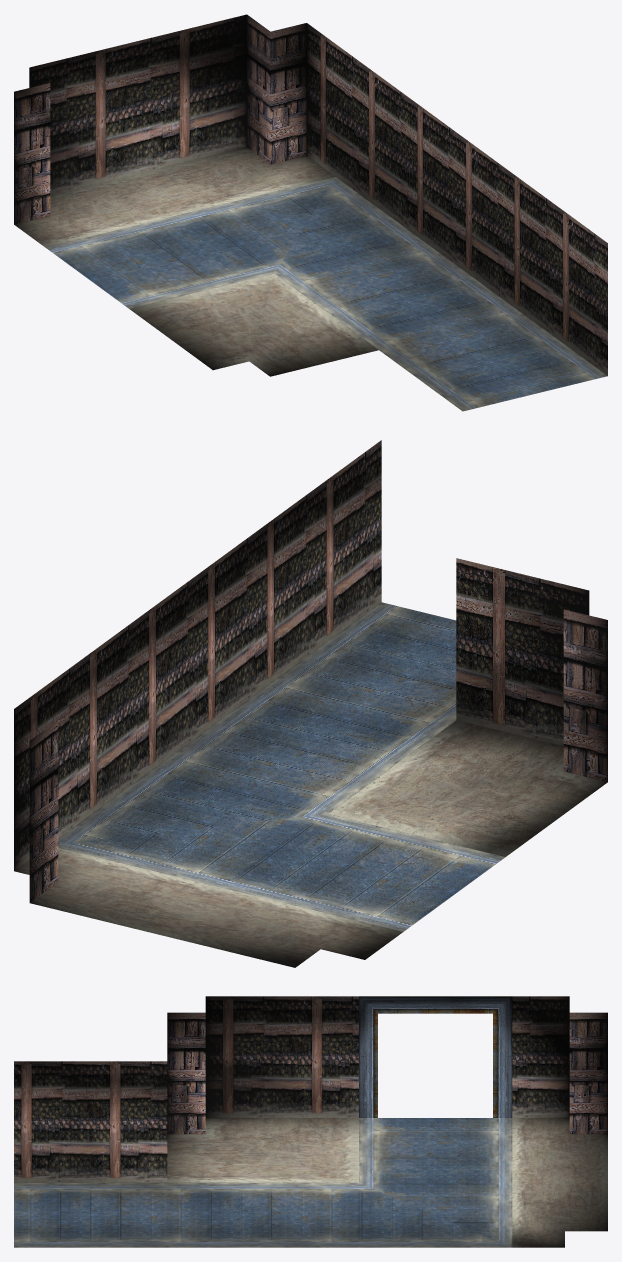
3 renders of one model, top to bottom at view 1: azimuth 30°, elevation 25°; view 2: azimuth 150°, elevation 25°; view 3: azimuth 270°, elevation 25°, orthographic. The views are drawn at different scales.
Visible parts, largest first — view 1: M09_Z05_02; view 2: M09_Z05_02; view 3: M09_Z05_02.
Boxes of the visible parts, x1=… form: M09_Z05_02: x1=14, y1=14, x2=607, y2=411; M09_Z05_02: x1=14, y1=440, x2=607, y2=967; M09_Z05_02: x1=14, y1=996, x2=607, y2=1247.
Size of the model in its own units: 8 by 3.5 by 15.5.
5 materials, 5 textured.
